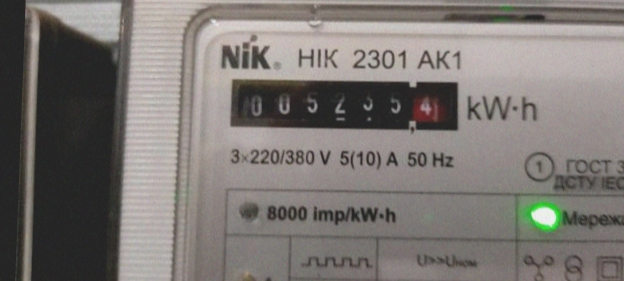0: (246, 92, 262, 117), (274, 91, 290, 115)
2: (329, 89, 346, 115)
3: (356, 87, 374, 112)
4: (414, 89, 433, 119)
5: (384, 87, 401, 115), (302, 89, 317, 114)
screen: (214, 63, 467, 144)
